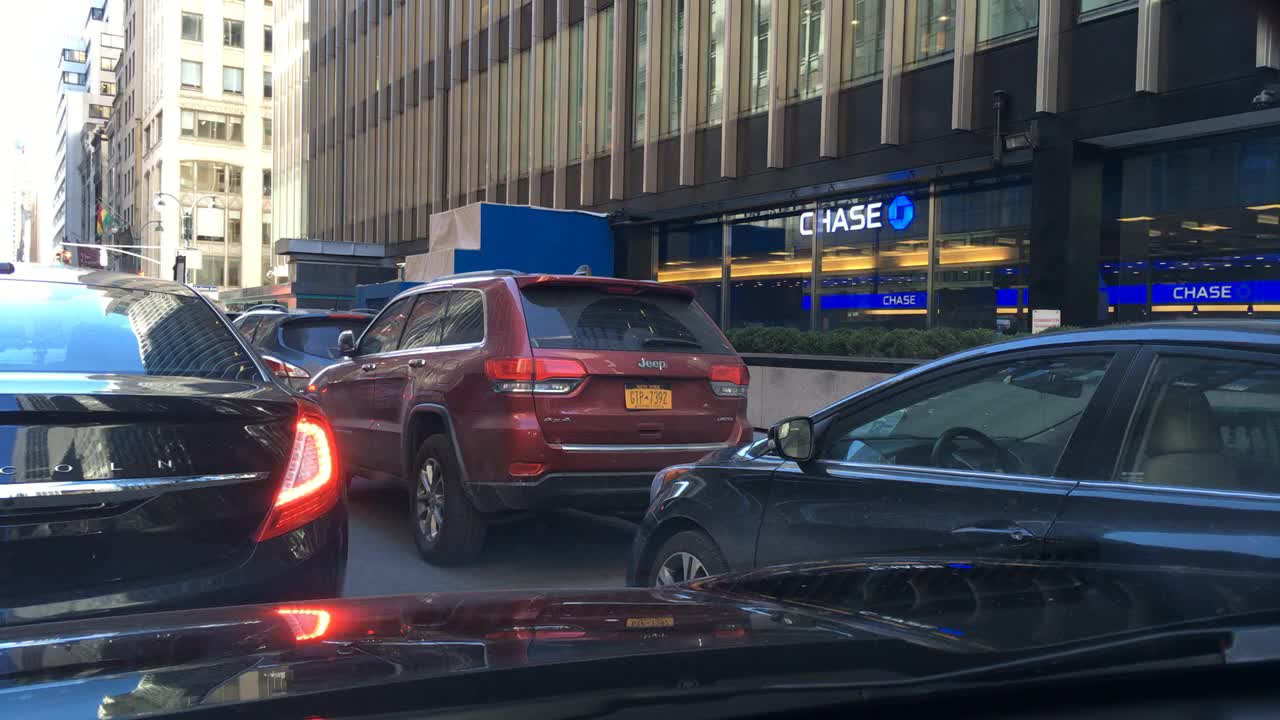car: (625, 316, 1279, 650), (302, 268, 755, 576), (0, 259, 349, 630), (225, 303, 373, 399)
traffic light: (54, 247, 62, 264), (62, 248, 68, 265)
